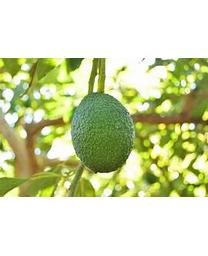avocado: (70, 92, 135, 173)
